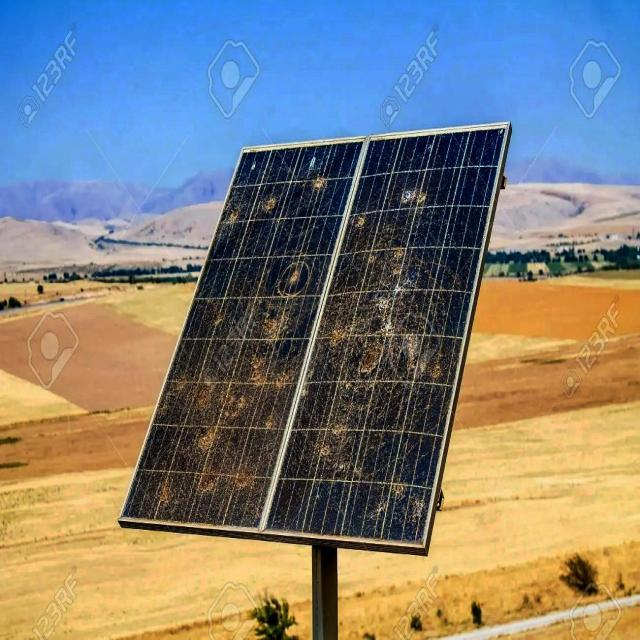faulty: (118, 120, 510, 544)
